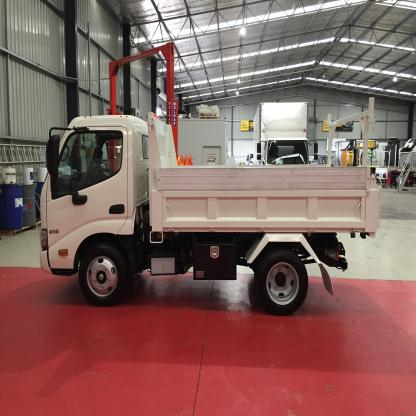dump_truck: (28, 101, 388, 334)
